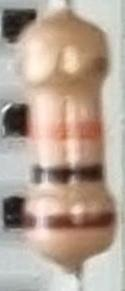Black: (26, 159, 105, 185)
Brown: (22, 209, 115, 232)
Orange: (31, 117, 106, 140)
Side-Silver: (15, 55, 110, 93)
